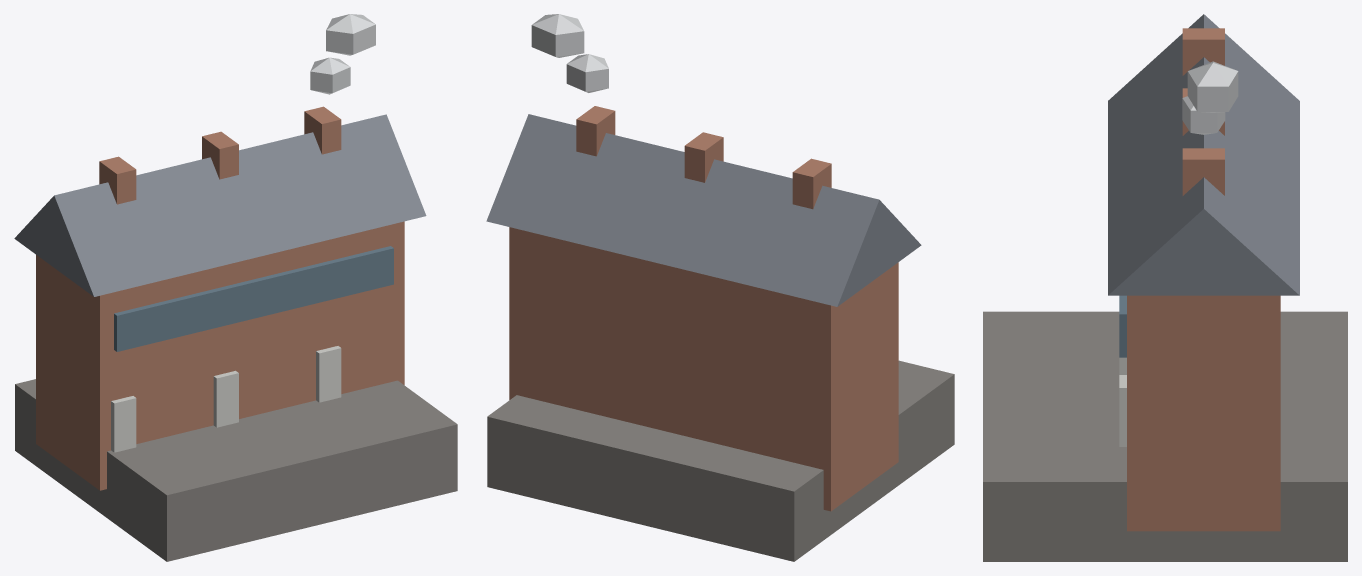
File: house-industrial-0.glb
3 renders of one model, left to right at view 1: azimuth 30°, elevation 25°; view 2: azimuth 150°, elevation 25°; view 3: azimuth 270°, elevation 25°, orthographic. The views are drawn at different scales.
Parts seen in each view (by area): view 1: LOD0; view 2: LOD0; view 3: LOD0.
Boxes of the visible parts, box(x1,y1,x2,y2) form: LOD0: box(14, 14, 457, 561); LOD0: box(486, 14, 954, 561); LOD0: box(983, 14, 1347, 561).
Size of what is drawn, in the model's own units: 0.24 by 0.2828 by 0.19.
